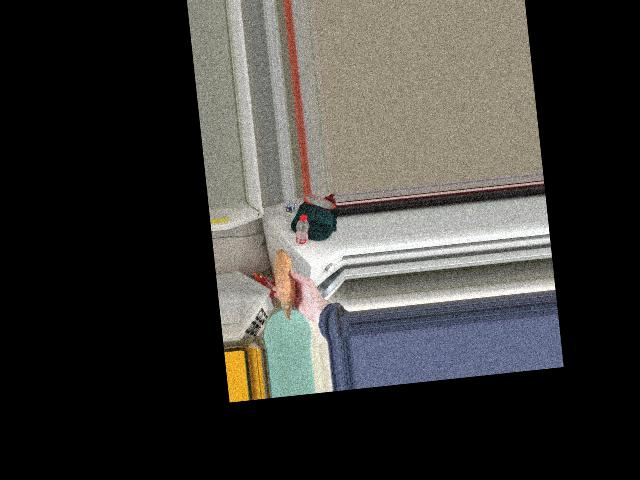sweet_potato: (275, 257, 296, 311)
